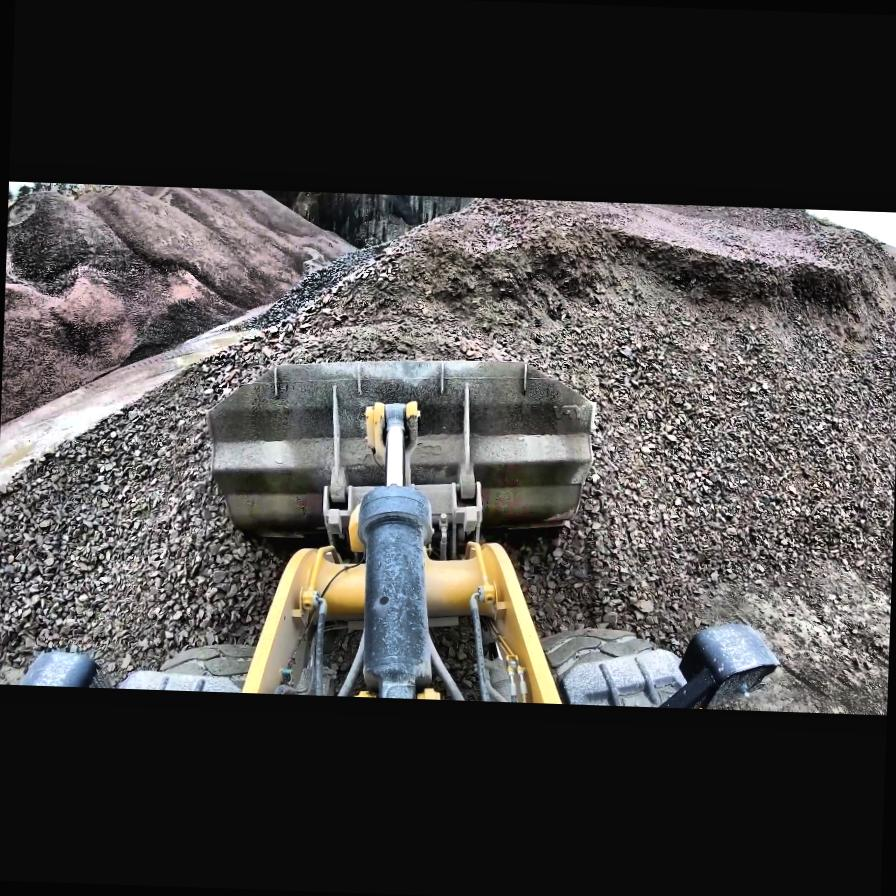anchor: (362, 398, 420, 486)
pile of gravel: (0, 181, 896, 693), (332, 192, 896, 426), (1, 180, 364, 457)
